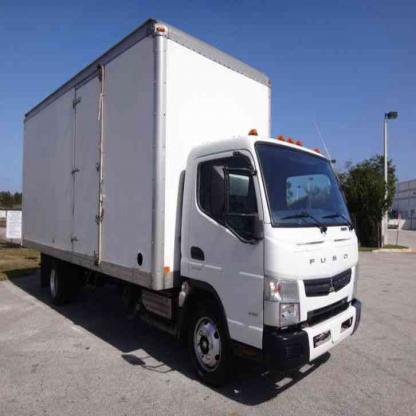truck: (22, 18, 362, 382)
